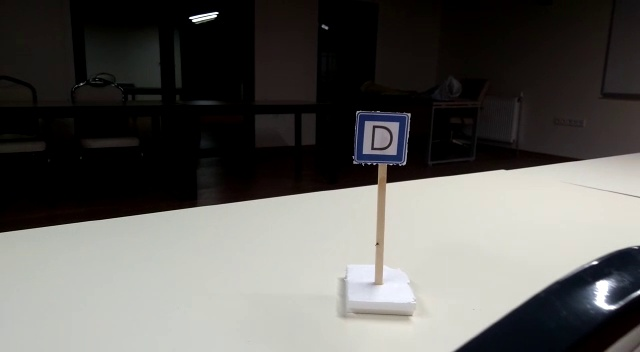durak: (352, 111, 412, 165)
